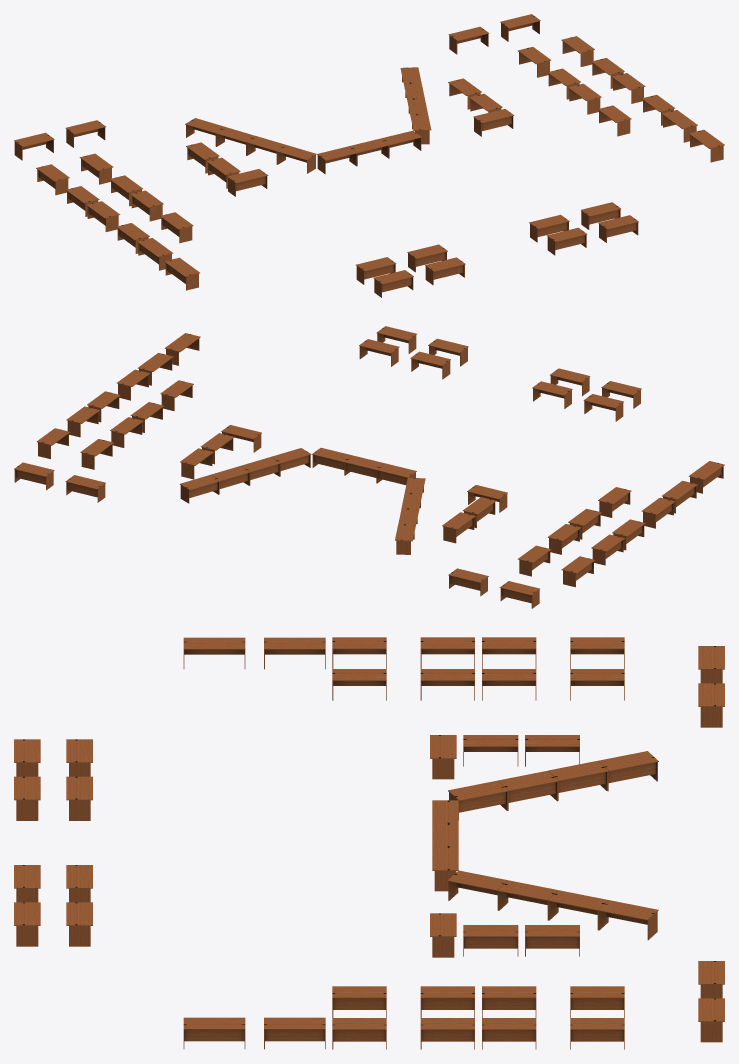
The model's file is LowerDesk2.dae.
The picture shows the model from 3 angles, top to bottom: view 1: azimuth 30°, elevation 25°; view 2: azimuth 150°, elevation 25°; view 3: azimuth 270°, elevation 25°; orthographic projection. The views are drawn at different scales.
Parts seen in each view (by area): view 1: LowerDesk; view 2: LowerDesk; view 3: LowerDesk.
Boxes of the visible parts, <box> form: LowerDesk: <box>14,14,724,297</box>; LowerDesk: <box>14,326,724,608</box>; LowerDesk: <box>14,637,724,1049</box>.
Size of the model in its own units: 1224 by 939 by 30.96.
Materials: 1 (1 with a texture image).
